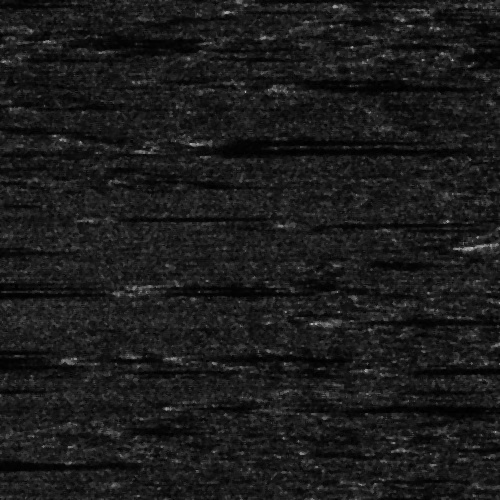object: (104, 270, 197, 313), (88, 270, 203, 297), (185, 70, 278, 87), (87, 363, 160, 376), (310, 314, 415, 323), (173, 346, 204, 365), (282, 217, 323, 228), (163, 135, 226, 142), (347, 366, 420, 371), (347, 40, 388, 45), (141, 145, 172, 150), (0, 52, 14, 61), (92, 215, 123, 218), (216, 7, 237, 10)
shadow: (151, 270, 373, 313), (146, 270, 294, 297), (231, 70, 390, 87), (195, 135, 465, 142), (303, 217, 461, 228), (124, 363, 232, 376), (363, 314, 500, 323), (0, 359, 121, 368), (0, 52, 106, 61), (0, 124, 104, 131), (189, 346, 226, 365), (384, 366, 500, 371), (0, 283, 94, 288), (108, 215, 253, 218), (368, 40, 453, 45), (226, 7, 306, 10), (0, 457, 38, 462), (157, 145, 194, 150), (308, 86, 472, 87), (0, 344, 16, 353), (0, 308, 18, 313)
